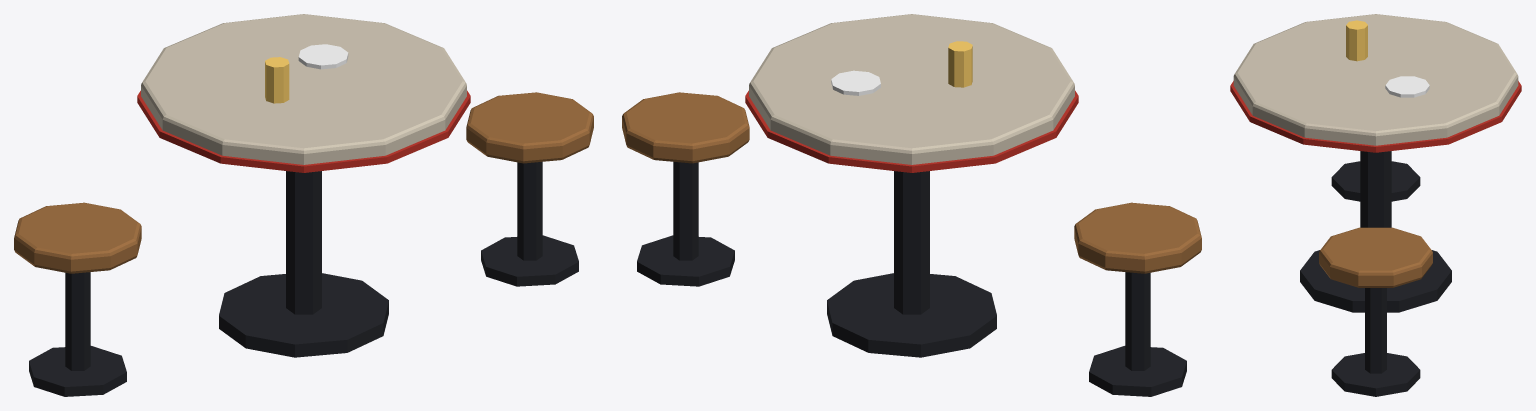
File: table.glb
3 views of the same model, side by side, from view 1: azimuth 30°, elevation 25°; view 2: azimuth 150°, elevation 25°; view 3: azimuth 270°, elevation 25° (orthographic). The views are drawn at different scales.
Parts seen in each view (by area): view 1: table; view 2: table; view 3: table.
Boxes of the visible parts, x1=… form: table: x1=14, y1=14, x2=593, y2=396; table: x1=622, y1=14, x2=1201, y2=396; table: x1=1230, y1=14, x2=1521, y2=396.
Bounding box in the file's own units: 1.78 × 0.84 × 0.92.
